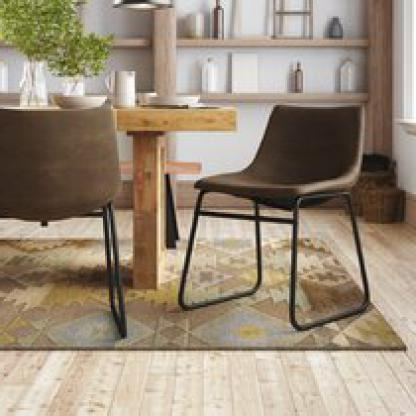chair: (174, 103, 374, 335), (0, 100, 132, 344)
